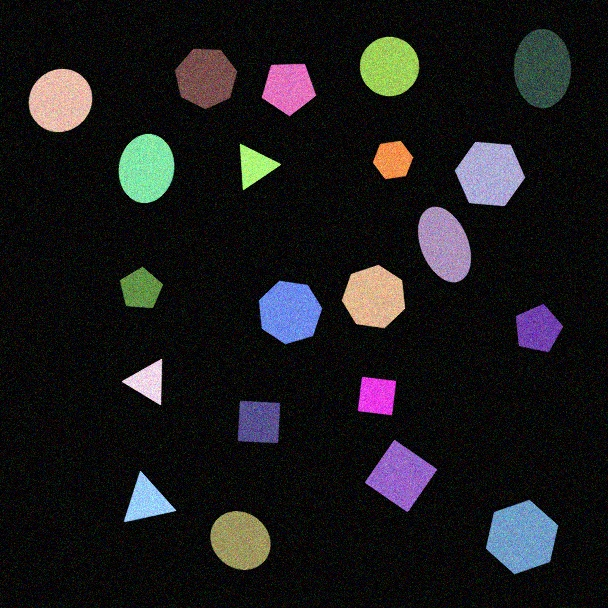Circulo: (28, 68, 93, 133), (210, 510, 271, 571), (359, 36, 420, 97)
Elipse: (513, 28, 572, 109), (417, 206, 472, 283), (118, 133, 175, 204)
Heptagono: (341, 264, 406, 329), (258, 280, 323, 345), (174, 48, 238, 110)
Hexagono: (485, 499, 559, 575), (454, 141, 526, 207), (372, 140, 414, 180)
Pentagono: (261, 63, 317, 117), (515, 303, 564, 353), (119, 266, 164, 309)
Quadrado: (364, 439, 438, 513), (237, 400, 281, 444), (357, 376, 397, 416)
Triangulo: (123, 471, 177, 523), (239, 143, 282, 191), (122, 358, 163, 406)
